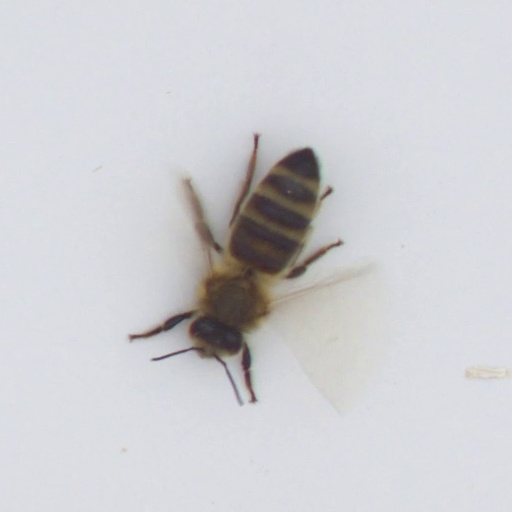Bee: (174, 124, 359, 381)
Thorax: (188, 266, 271, 330)
